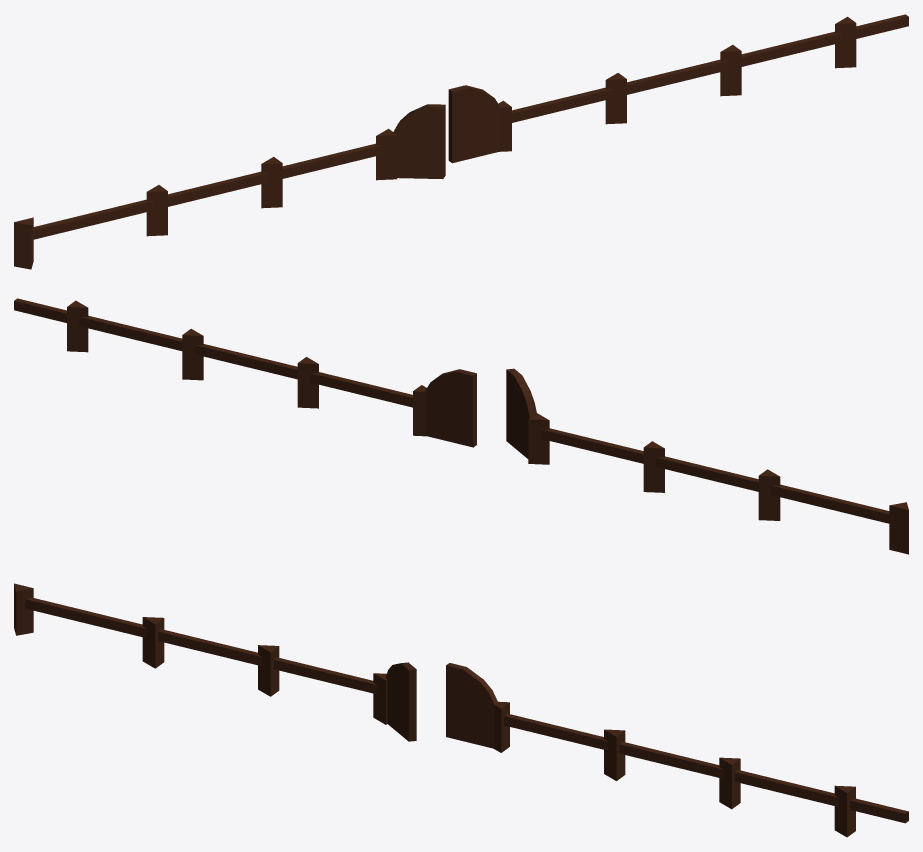
The model's file is line(door).FBX.
3 views of the same model, one above another, from view 1: azimuth 30°, elevation 25°; view 2: azimuth 150°, elevation 25°; view 3: azimuth 330°, elevation 25° (orthographic).
Visible parts, largest first — view 1: Box013; view 2: Box013; view 3: Box013.
Boxes of the visible parts, left/top/right/bottom form: Box013: left=14, top=14, right=908, bottom=269; Box013: left=14, top=298, right=908, bottom=554; Box013: left=14, top=583, right=908, bottom=837.
Size of the model in its own units: 27.5 by 2.11 by 1.09.
